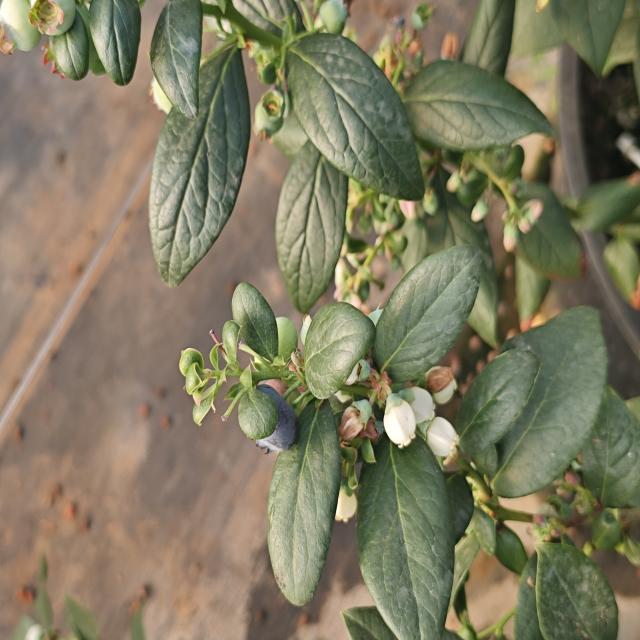ripe: (236, 377, 301, 464)
